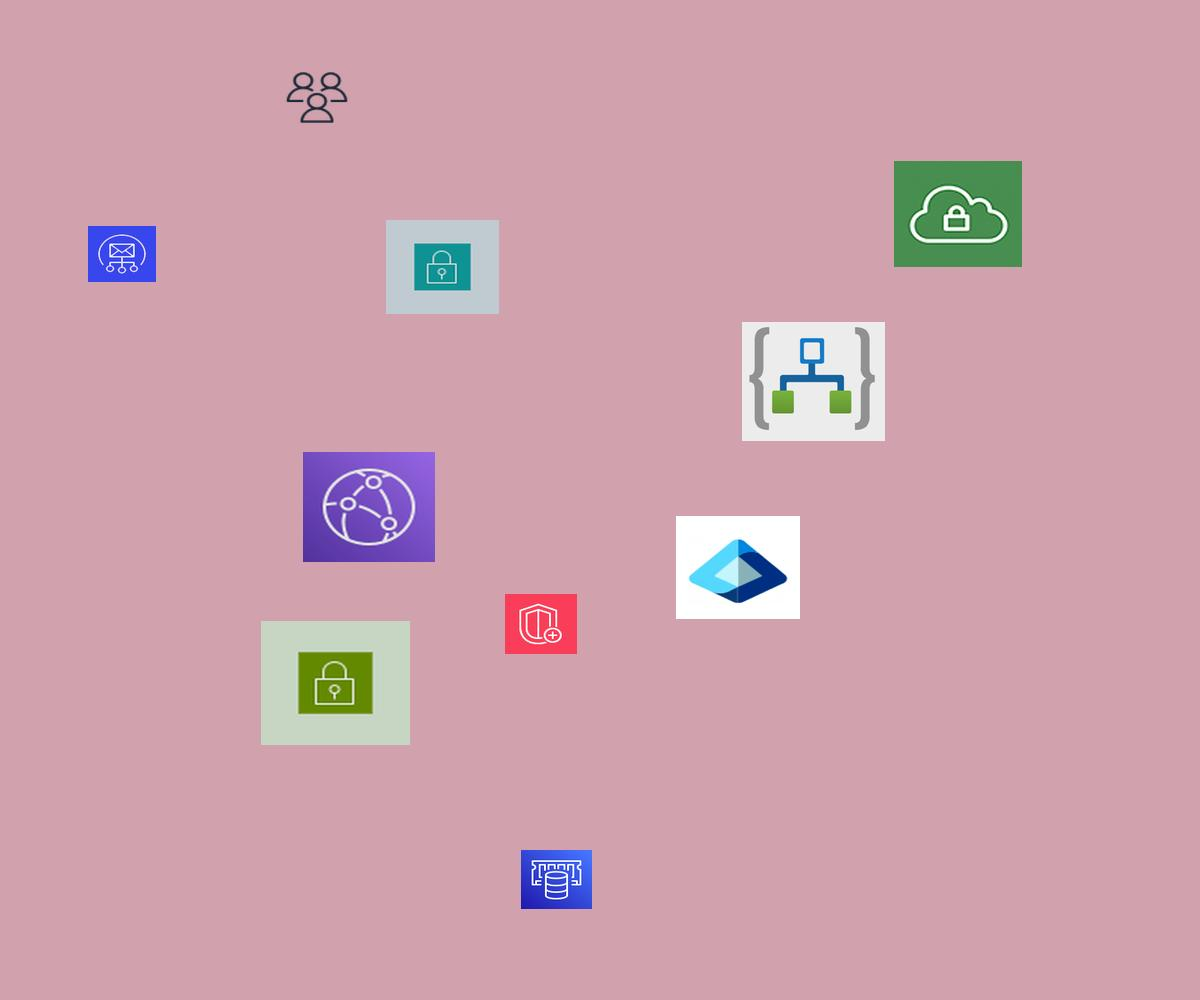AWS-CloudFront: (303, 452, 435, 562)
AWS-ElastiCache: (521, 850, 592, 909)
AWS-Private-subnet: (386, 220, 499, 314)
AWS-Private_vpc: (894, 161, 1022, 267)
AWS-Public-subnet: (261, 621, 410, 745)
AWS-Res_Users: (284, 70, 350, 125)
AWS-Shield: (505, 594, 577, 654)
AWS-Simple-Email-Service: (88, 226, 156, 282)
Azure_integration-204-Logic-Apps: (742, 322, 885, 441)
Azure_microsoft_entra: (676, 516, 800, 619)
